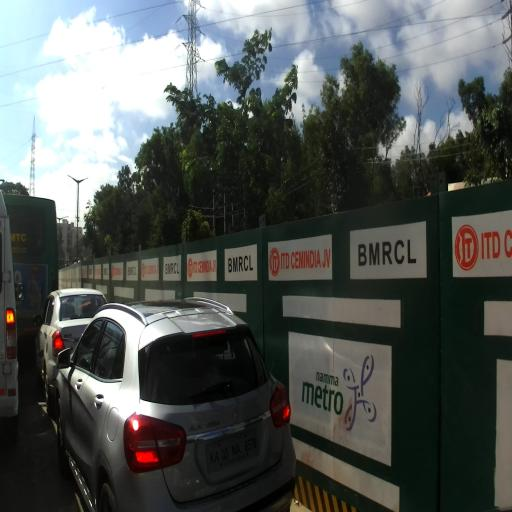street_light_0: (67, 174, 79, 185), (78, 178, 88, 185), (59, 216, 69, 221)
